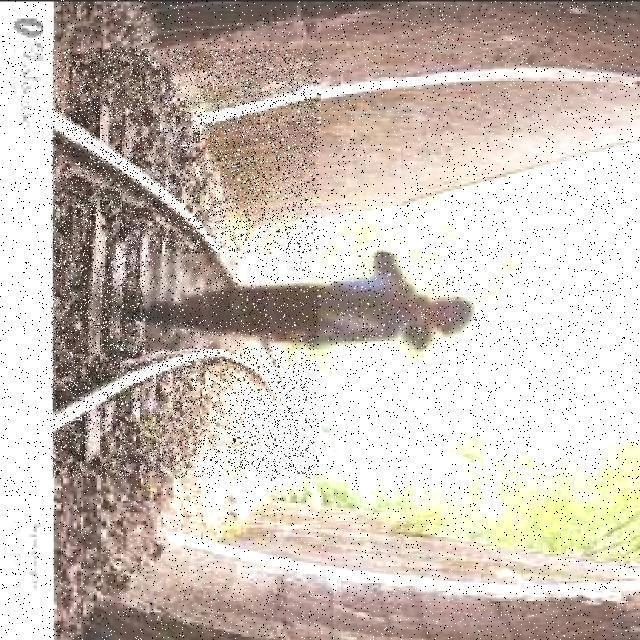rail: (52, 50, 319, 479)
